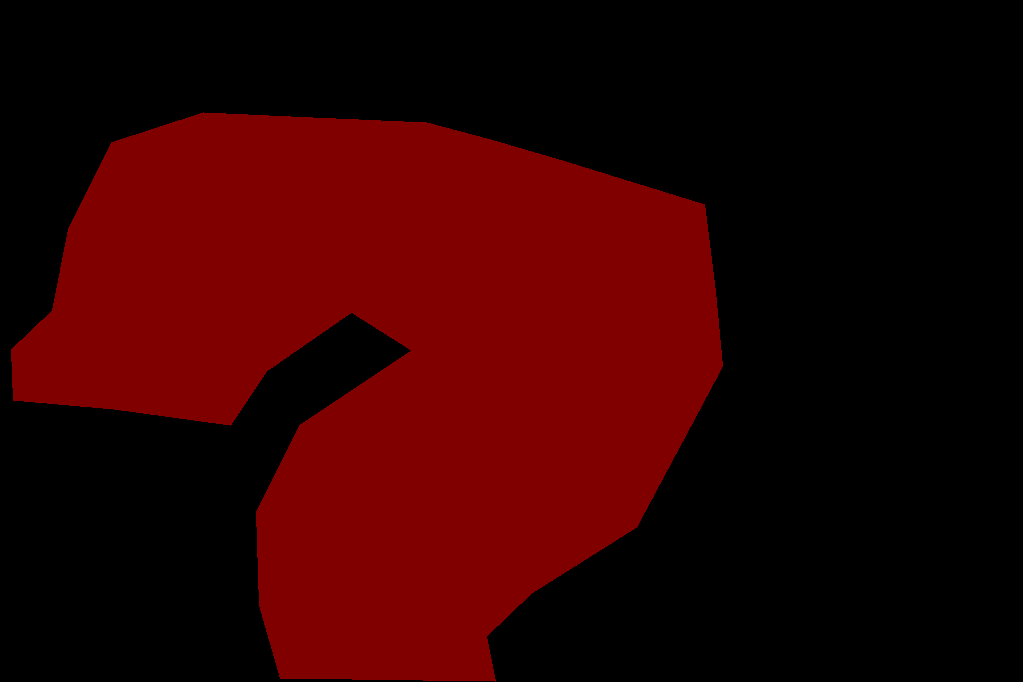fire: (11, 112, 722, 681)
